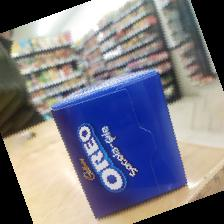Oreo: (50, 69, 188, 222)
